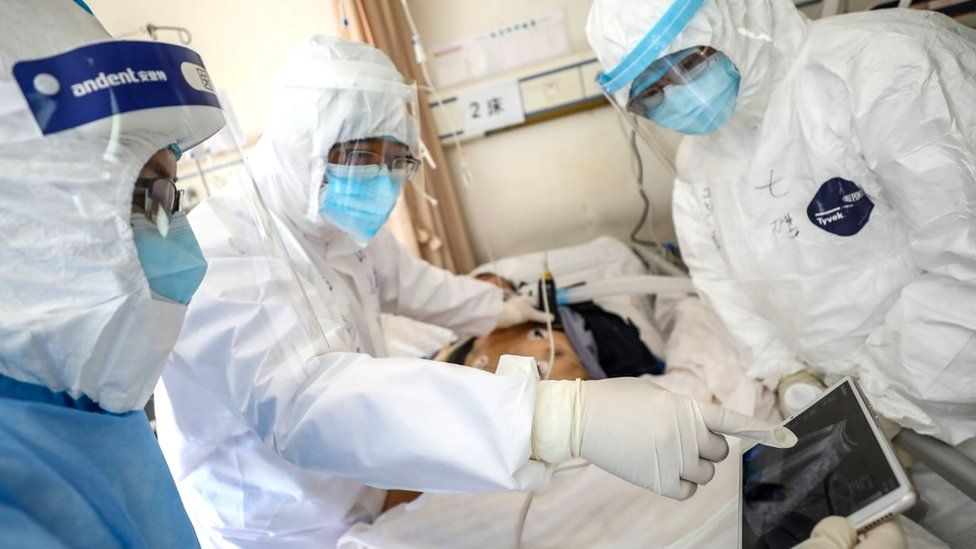Coverall: (158, 21, 536, 545), (577, 1, 976, 497)
Face_Shield: (10, 33, 250, 326)
Gloves: (536, 365, 799, 502), (492, 294, 555, 332)
with_mask: (129, 134, 212, 326), (319, 134, 412, 246), (632, 50, 739, 140)
